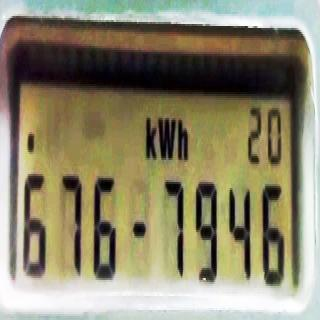-: (265, 97, 285, 175), (132, 210, 147, 250), (27, 127, 35, 160)
2: (247, 98, 262, 177)
4: (226, 178, 252, 287)
6: (20, 167, 48, 285), (90, 171, 118, 288), (260, 173, 286, 294)
7: (58, 158, 84, 285), (162, 165, 186, 288)
9: (194, 170, 218, 292)
